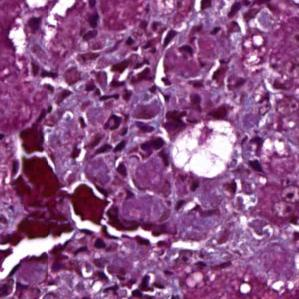ballooning: (169, 117, 236, 180)
